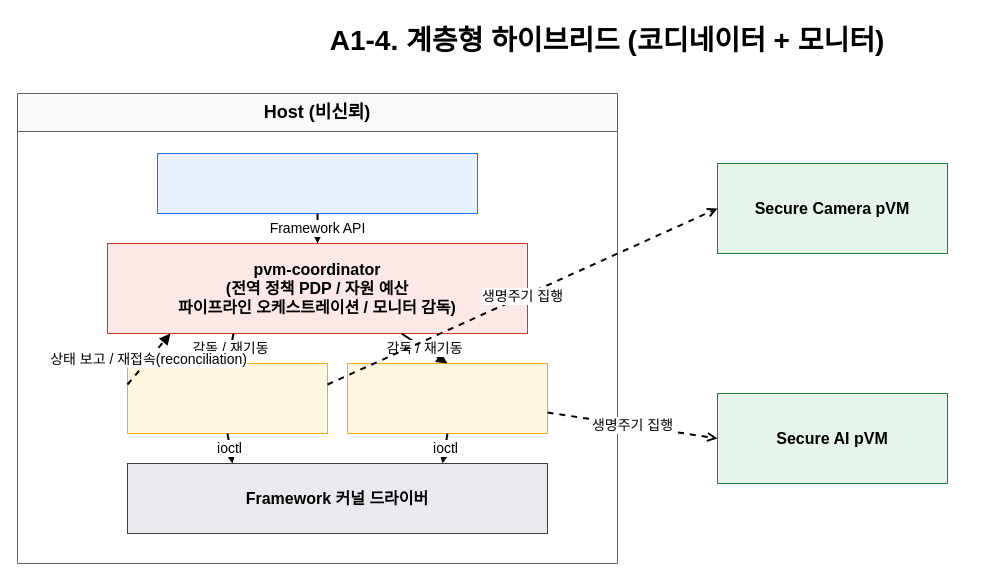
Some shapes in this 985 by 581 pixel diagram are drawn without their labels. Each missing label, with the centre of its shape:
"Host Application" belongs at pixel 317 183.
"pvm-monitor #1 (Camera 생명주기 집행 PEP)" belongs at pixel 227 398.
"pvm-monitor #2 (AI 생명주기 집행 PEP)" belongs at pixel 447 398.
